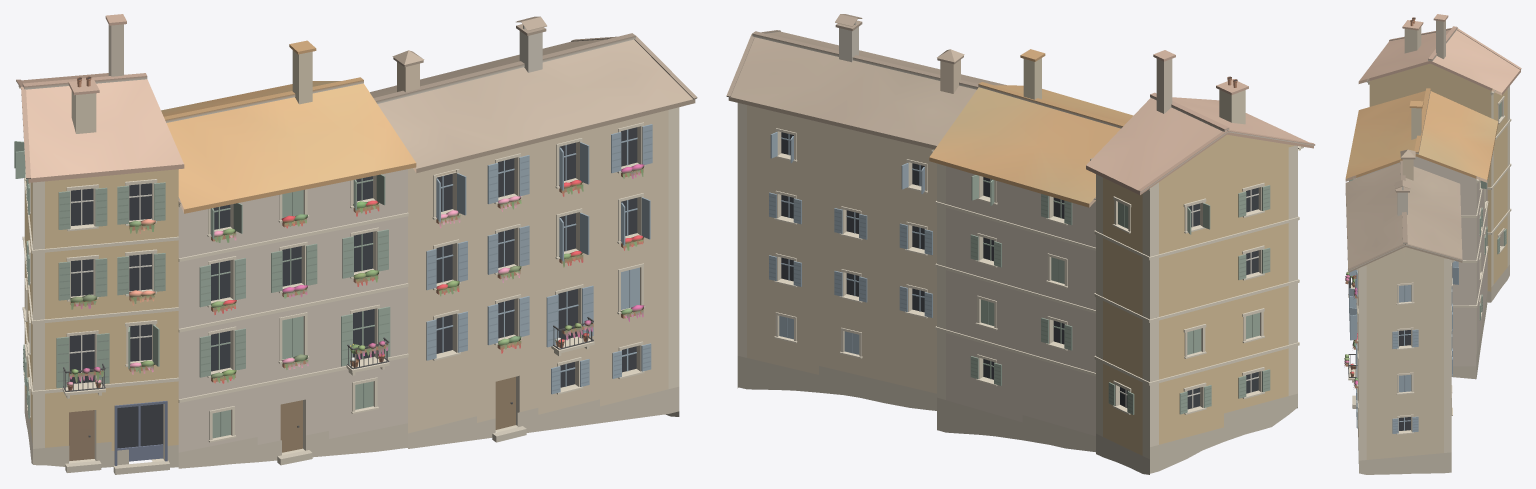
Rendered from SM_BM_BT_blk_01.glb.
3 views of the same model, side by side, from view 1: azimuth 30°, elevation 25°; view 2: azimuth 150°, elevation 25°; view 3: azimuth 270°, elevation 25° (orthographic). The views are drawn at different scales.
Visible parts, largest first — view 1: SM_BM_BT_blk_01; view 2: SM_BM_BT_blk_01; view 3: SM_BM_BT_blk_01.
Part boxes in pixels (<box>): SM_BM_BT_blk_01: <box>14,14,697,474</box>; SM_BM_BT_blk_01: <box>726,14,1315,474</box>; SM_BM_BT_blk_01: <box>1344,14,1521,474</box>.
Bounding box in the file's own units: 30.33 × 22 × 11.46.
